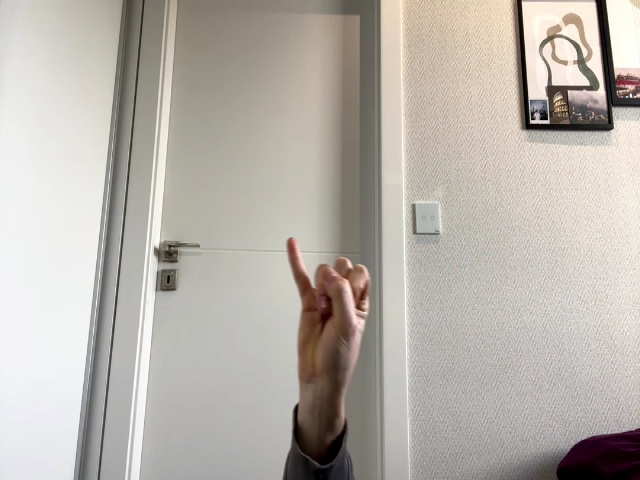I: (287, 238, 371, 392)
